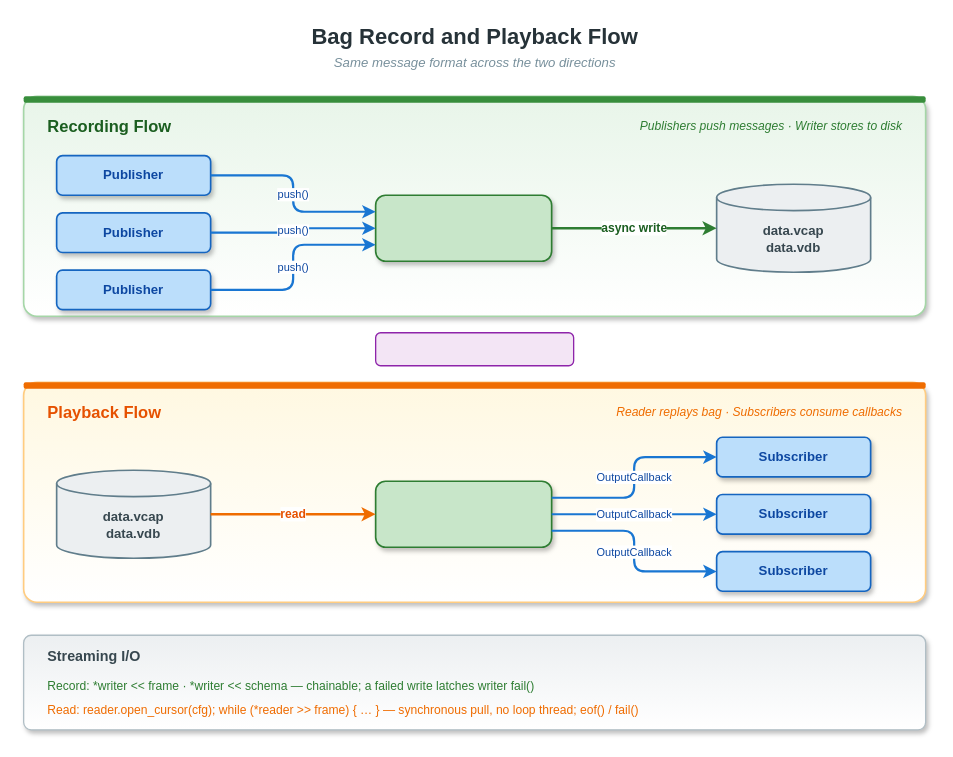
The diagram is 953 pixels wide and 757 high, and some of its shapes have lost their labels. The shapes that lost their labels are listed below. From the top down, each one's centre as x and y in pixels, then its label:
the point at 464,229: BagWriter
the point at 474,349: Same Message Format
the point at 464,515: BagReader
